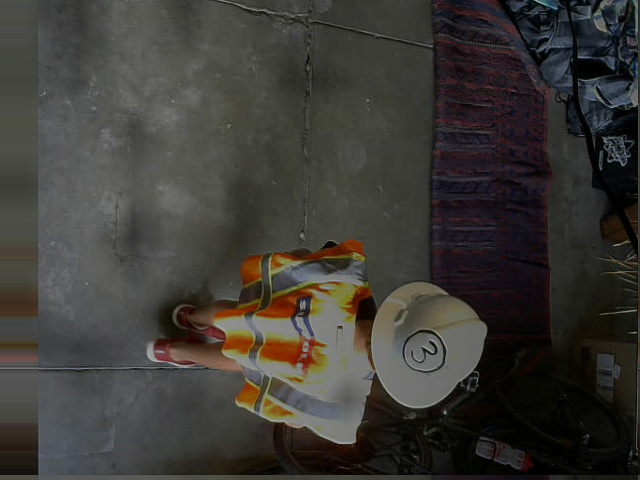three: (401, 328, 446, 372)
